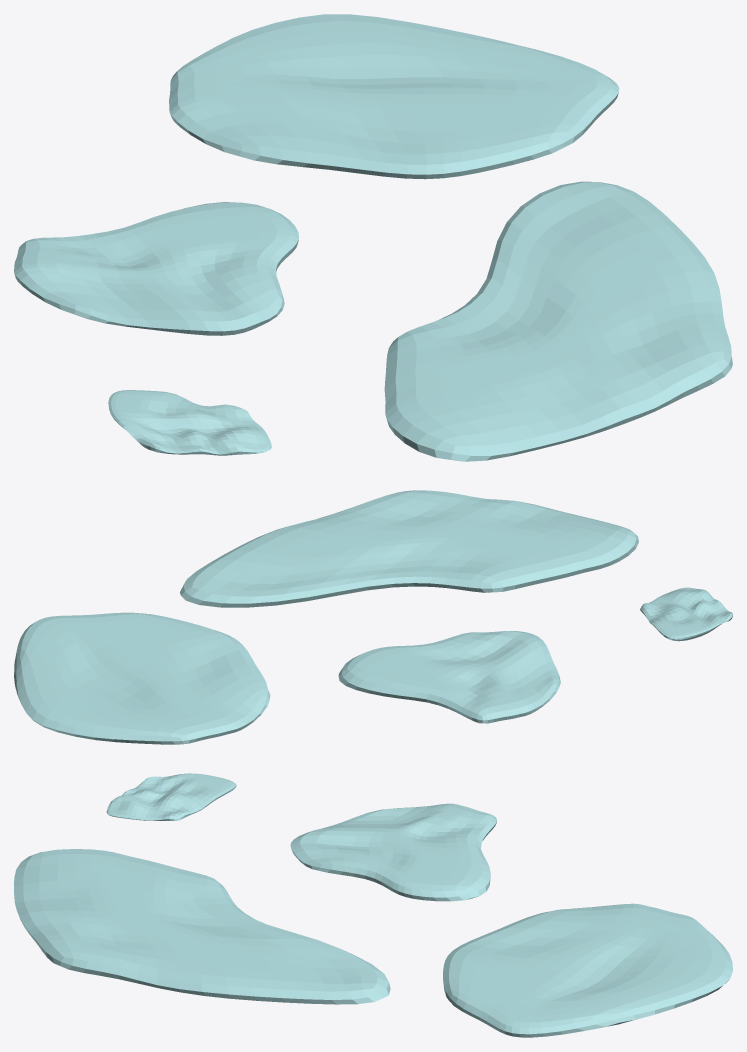
Rendered from Snow 1.fbx.
3 renders of one model, top to bottom at view 1: azimuth 30°, elevation 25°; view 2: azimuth 150°, elevation 25°; view 3: azimuth 270°, elevation 25°, orthographic. The views are drawn at different scales.
Parts seen in each view (by area): view 1: Cube, Cube.003, Cube.001, Cube.002; view 2: Cube, Cube.003, Cube.001, Cube.002; view 3: Cube, Cube.003, Cube.001, Cube.002.
Part boxes in pixels (bbox=[...]): Cube: bbox=[384, 181, 732, 461]; Cube.003: bbox=[169, 14, 619, 179]; Cube.001: bbox=[14, 202, 298, 335]; Cube.002: bbox=[108, 390, 271, 455]; Cube: bbox=[180, 490, 638, 607]; Cube.003: bbox=[14, 612, 270, 744]; Cube.001: bbox=[338, 631, 560, 723]; Cube.002: bbox=[640, 587, 732, 641]; Cube: bbox=[14, 849, 390, 1004]; Cube.003: bbox=[443, 903, 732, 1037]; Cube.001: bbox=[290, 803, 496, 901]; Cube.002: bbox=[106, 773, 236, 820].
Bounding box in the file's own units: 1009 × 25.27 × 1191.
